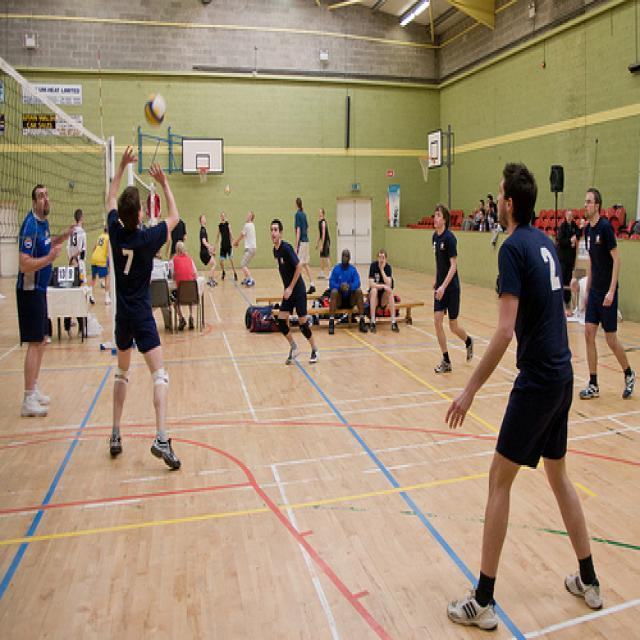volleyball: (144, 94, 167, 128)
